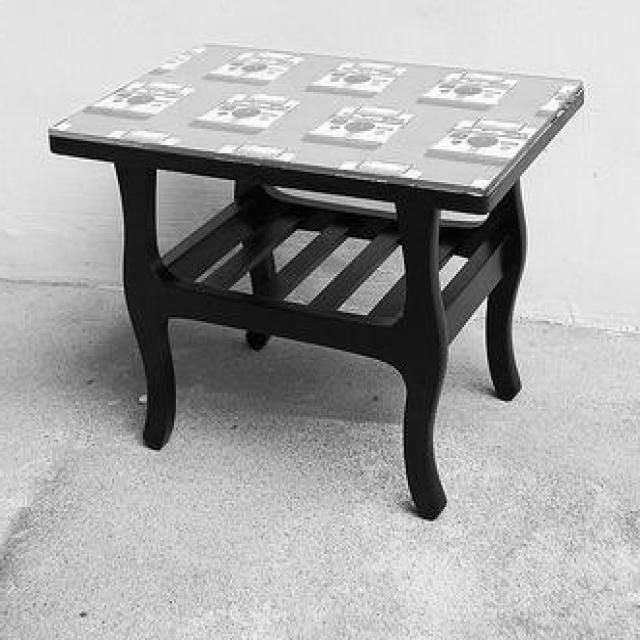table: (48, 41, 583, 519)
